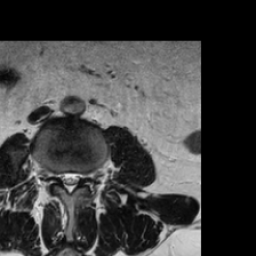CCS_normal: (65, 164, 73, 198)
LFS_stenosis: (81, 167, 89, 186)
LLS_normal: (73, 167, 80, 191)
RFS_stenosis: (50, 167, 59, 189)
RLS_stenosis: (59, 168, 66, 189)
